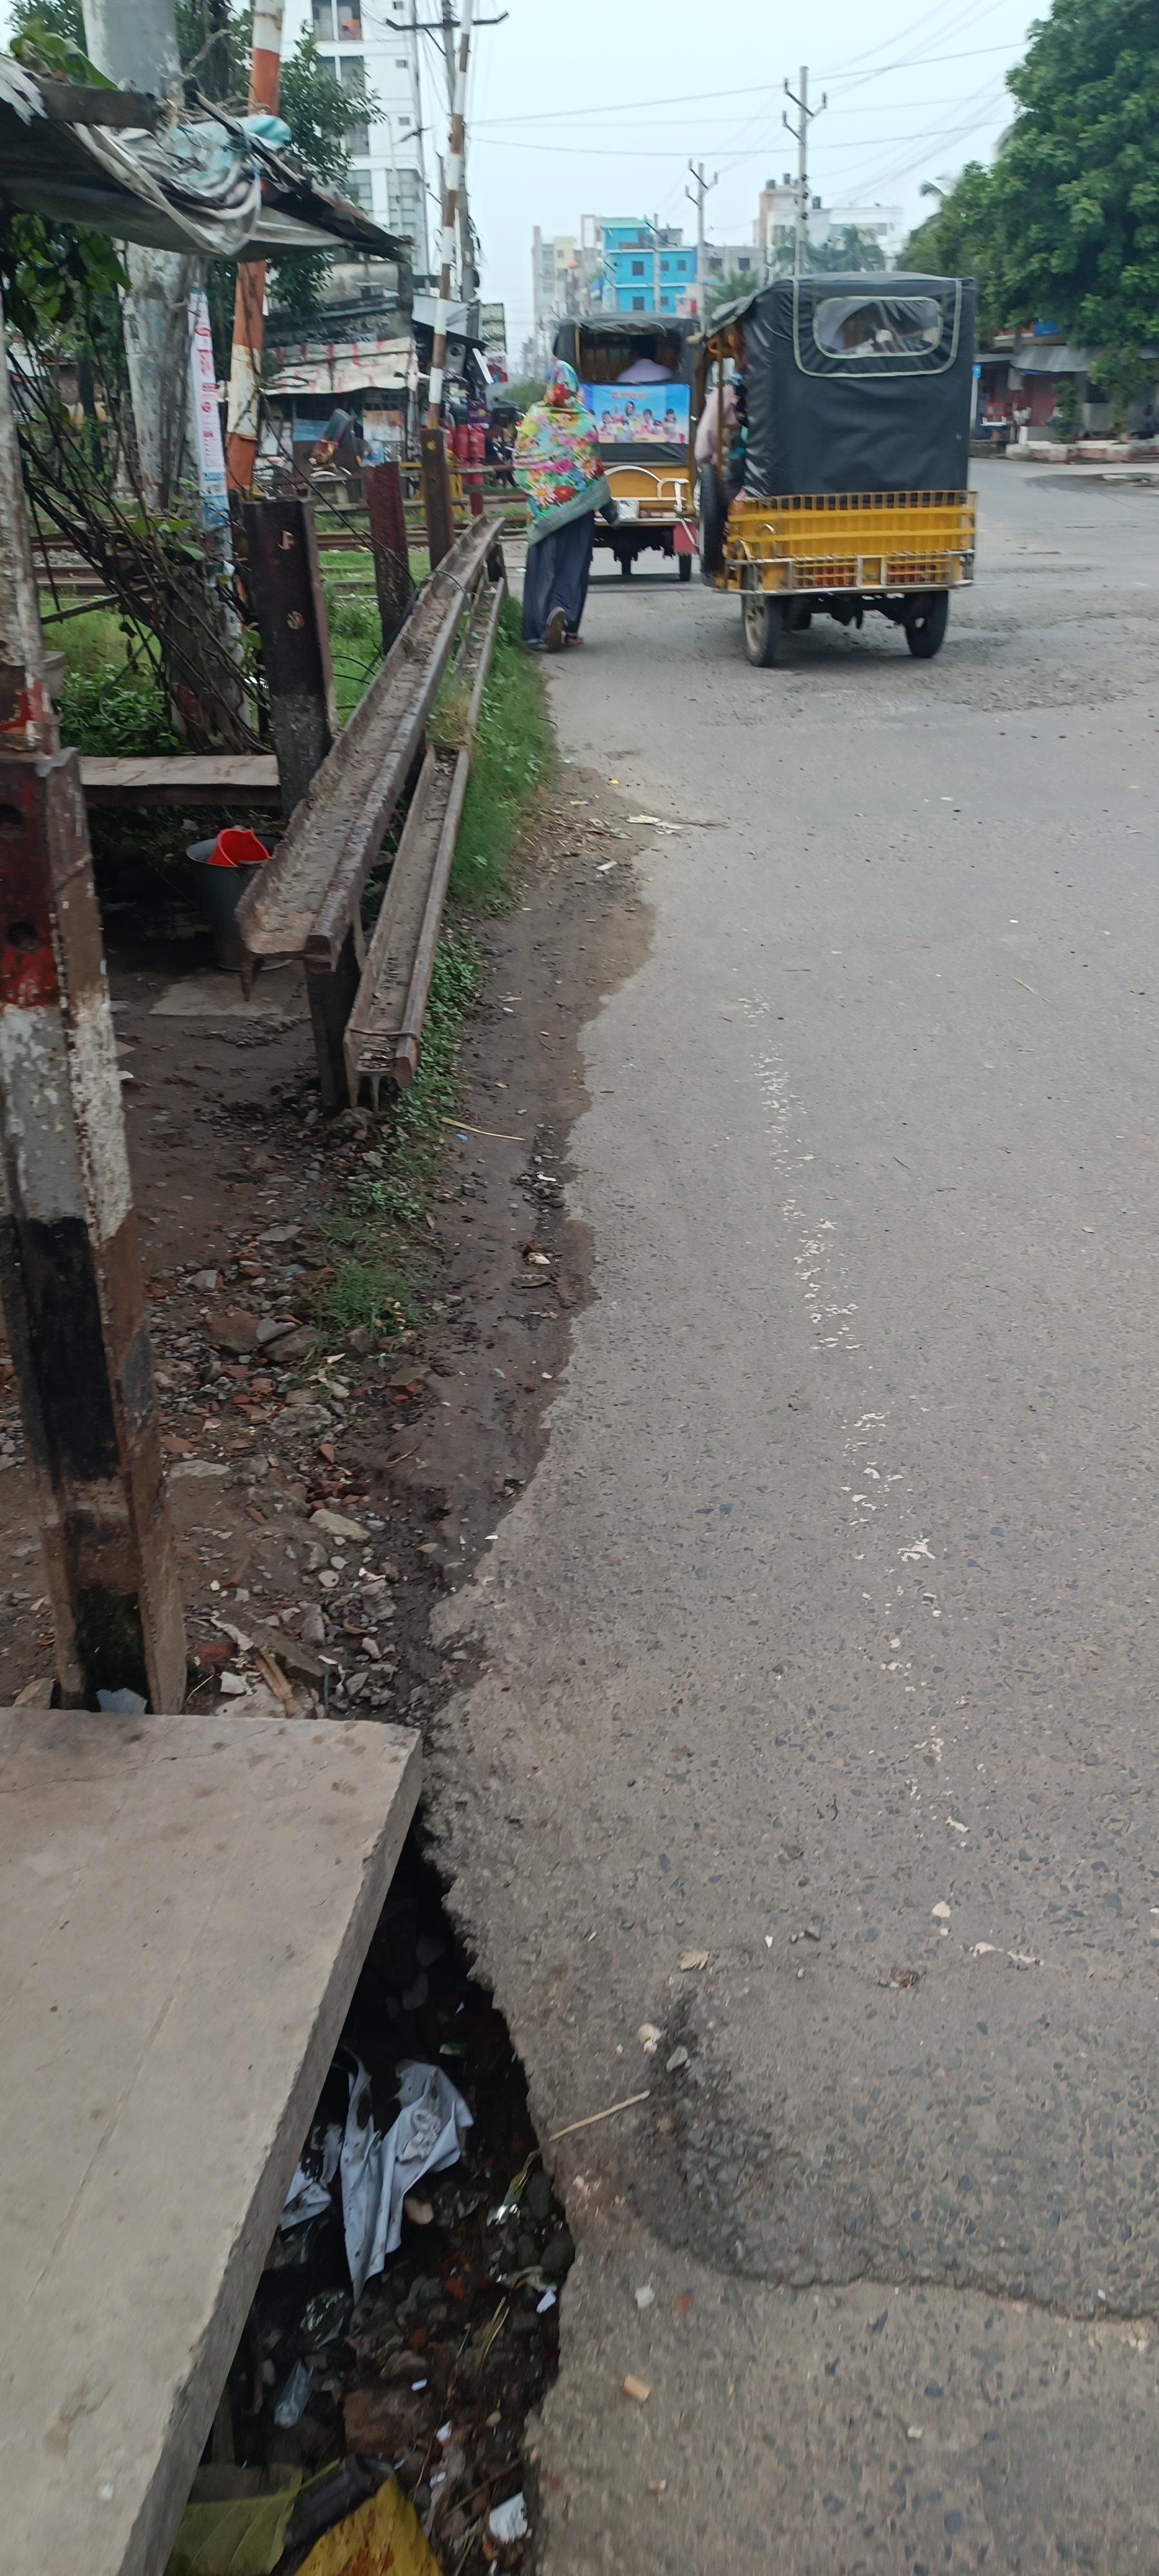Garbage-bin: (513, 361, 617, 651)
Motorcycle: (127, 1788, 578, 2569)
Obstacle: (229, 502, 516, 1117)
Traffic-cone: (735, 278, 999, 650)
